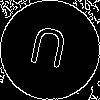U: (25, 25, 70, 78)
